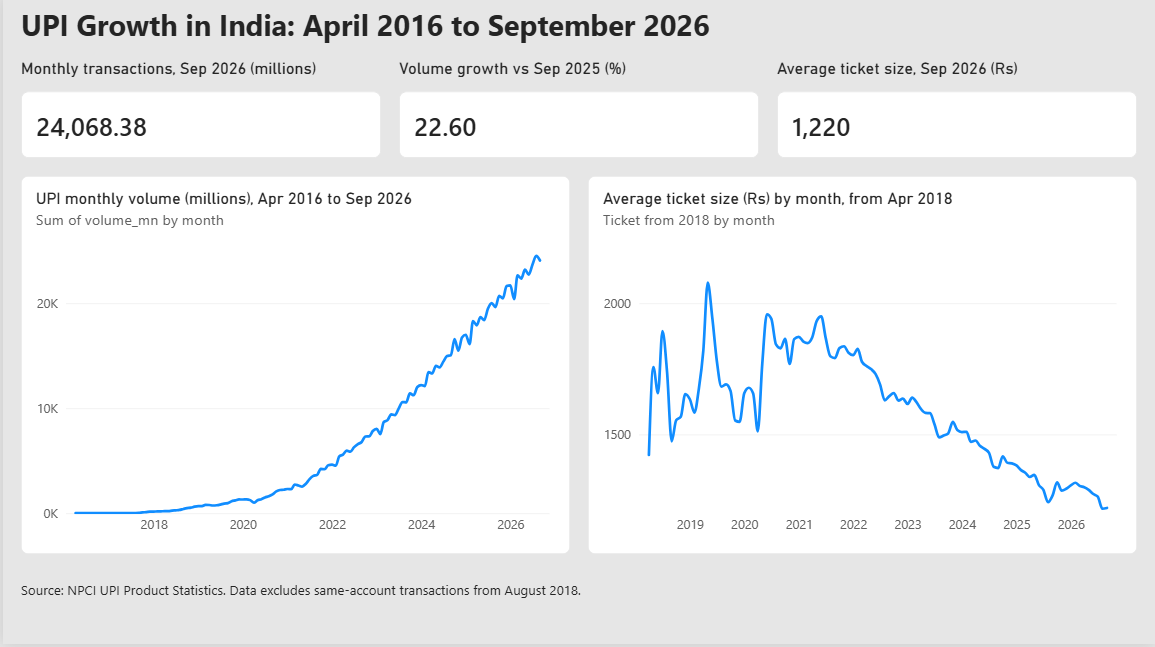

The dashboard page shown, as its layout file describes it:
{"tool":"powerbi","page":{"name":"Page 1","canvas":[1280,720],"ordinal":0},"visuals":[{"type":"cardVisual","title":"Monthly transactions, Sep 2026 (millions)","fields":{"Data":["upi_monthly_clean.Volume Text"]},"box":[20,70,400,110],"z":0},{"type":"cardVisual","title":"Volume growth vs Sep 2025 (%)","fields":{"Data":["upi_monthly_clean.Volume YoY pct"]},"box":[440,70,400,110],"z":1},{"type":"cardVisual","title":"Average ticket size, Sep 2026 (Rs)","fields":{"Data":["upi_monthly_clean.Ticket Text"]},"box":[860,70,400,110],"z":2},{"type":"lineChart","title":"UPI monthly volume (millions), Apr 2016 to Sep 2026","fields":{"Category":["upi_monthly_clean.month"],"Y":["Sum(upi_monthly_clean.volume_mn)"]},"box":[20,200,610,420],"z":3},{"type":"lineChart","title":"Average ticket size (Rs) by month, from Apr 2018","fields":{"Category":["upi_monthly_clean.month"],"Y":["upi_monthly_clean.Ticket from 2018"]},"box":[650,200,610,420],"z":4},{"type":"textbox","box":[20,10,1240,50],"z":5},{"type":"textbox","box":[20,650,1240,40],"z":6}]}

Visuals, with their boxes in screenshot pixels (x1, y1, x2, y2), scaled from the page's 1280x720 canvas onto the 1155x647 screenshot:
"Monthly transactions, Sep 2026 (millions)" cardVisual: detection(18, 63, 379, 162)
"Volume growth vs Sep 2025 (%)" cardVisual: detection(397, 63, 758, 162)
"Average ticket size, Sep 2026 (Rs)" cardVisual: detection(776, 63, 1137, 162)
"UPI monthly volume (millions), Apr 2016 to Sep 2026" lineChart: detection(18, 180, 568, 557)
"Average ticket size (Rs) by month, from Apr 2018" lineChart: detection(587, 180, 1137, 557)
textbox: detection(18, 9, 1137, 54)
textbox: detection(18, 584, 1137, 620)
